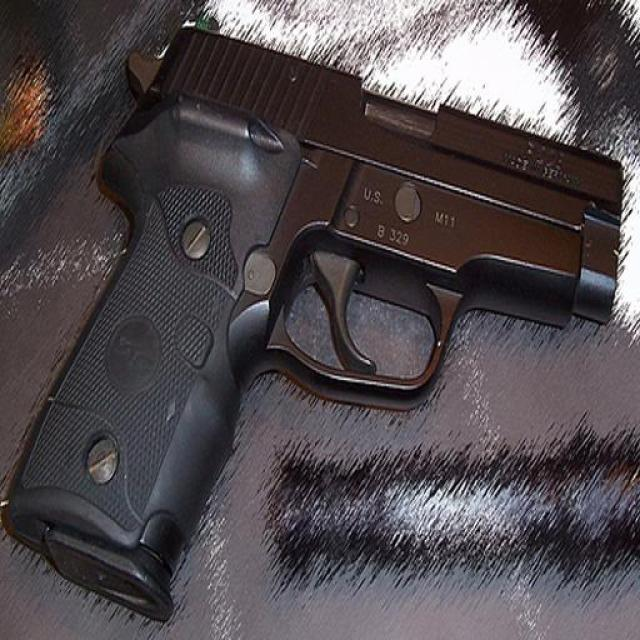pistol: (3, 24, 629, 620)
